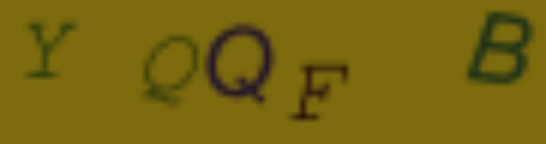B: (464, 7, 540, 87)
F: (287, 59, 352, 124)
Q: (203, 23, 276, 109), (138, 32, 202, 109)
Y: (19, 19, 84, 85)
